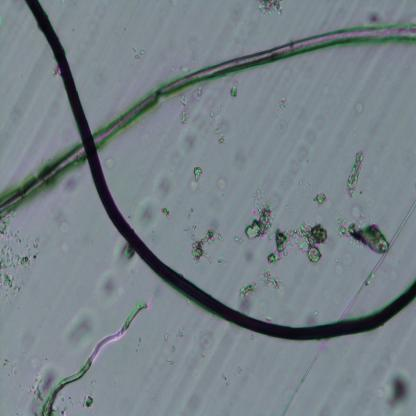Background material: (0, 222, 49, 302), (268, 222, 328, 264), (139, 171, 180, 228), (338, 222, 390, 256), (22, 364, 58, 410), (244, 195, 277, 242), (240, 266, 282, 300), (70, 308, 104, 345), (384, 369, 413, 411), (190, 223, 221, 262), (347, 148, 365, 199), (48, 199, 72, 234), (98, 269, 126, 297), (115, 237, 138, 268), (175, 91, 195, 125), (198, 327, 218, 354), (211, 171, 230, 199), (57, 174, 80, 197), (258, 0, 287, 18), (354, 93, 369, 117), (363, 10, 385, 24), (78, 393, 96, 410), (132, 43, 146, 63), (276, 89, 288, 110), (214, 126, 225, 148), (177, 62, 190, 76), (317, 191, 328, 206), (230, 85, 241, 100), (193, 166, 203, 182), (106, 158, 117, 170), (165, 358, 176, 366), (164, 330, 170, 344), (170, 344, 177, 352)
Cellulose filter fibre: (0, 21, 416, 216), (40, 300, 150, 414), (176, 326, 186, 343)
Microfibre: (25, 0, 416, 339)
